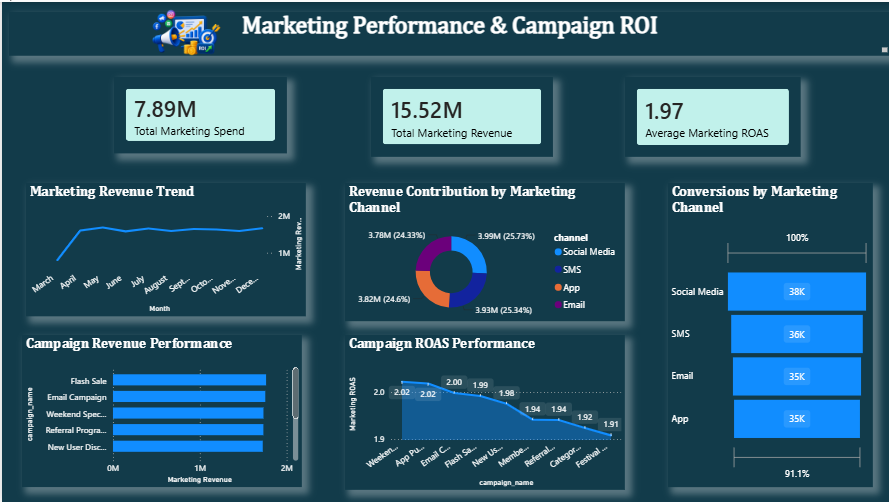

What the dashboard file says about the page in this screenshot:
{"tool":"powerbi","page":{"name":"Marketing Performance & Campaign ROI","canvas":[1280,720],"ordinal":4},"visuals":[{"type":"textbox","title":"Marketing Performance & Campaign ROI","box":[10.1,14.4,1270.1,63.4],"z":0},{"type":"cardVisual","fields":{"Data":["microfulfilliq blinkit_marketing_performance.Marketing Spend"]},"box":[161.3,108,249.1,109.8],"z":1000},{"type":"cardVisual","fields":{"Data":["microfulfilliq blinkit_marketing_performance.Marketing Revenue"]},"box":[531.4,108,262.2,114.7],"z":2000},{"type":"cardVisual","fields":{"Data":["microfulfilliq blinkit_marketing_performance.Marketing ROAS"]},"box":[897.1,108,253.4,115.2],"z":3000},{"type":"lineChart","title":"Marketing Revenue Trend","fields":{"Category":["microfulfilliq blinkit_marketing_performance.date.Variation.Date Hierarchy.Year","microfulfilliq blinkit_marketing_performance.date.Variation.Date Hierarchy.Quarter","microfulfilliq blinkit_marketing_performance.date.Variation.Date Hierarchy.Month","microfulfilliq blinkit_marketing_performance.date.Variation.Date Hierarchy.Day"],"Y2":["microfulfilliq blinkit_marketing_performance.Marketing Revenue"]},"box":[34.4,260.6,403.2,191.8],"z":4000},{"type":"clusteredBarChart","title":"Campaign Revenue Performance","fields":{"Category":["microfulfilliq blinkit_marketing_performance.campaign_name"],"Y":["microfulfilliq blinkit_marketing_performance.Marketing Revenue"]},"box":[28.8,479.5,403.2,218.9],"z":5000},{"type":"donutChart","title":"Revenue Contribution by Marketing Channel","fields":{"Category":["microfulfilliq blinkit_marketing_performance.channel"],"Y":["microfulfilliq blinkit_marketing_performance.Marketing Revenue"]},"box":[493.9,260.6,403,199],"z":6000},{"type":"areaChart","title":"Campaign ROAS Performance","fields":{"Category":["microfulfilliq blinkit_marketing_performance.campaign_name"],"Y":["microfulfilliq blinkit_marketing_performance.Marketing ROAS"]},"box":[493.9,479.5,403.2,223.2],"z":7000},{"type":"funnel","title":"Conversions by Marketing Channel","fields":{"Category":["microfulfilliq blinkit_marketing_performance.channel"],"Y":["Sum(microfulfilliq blinkit_marketing_performance.conversions)"]},"box":[959,260.6,295.2,437.8],"z":8000},{"type":"image","box":[188.6,7.2,151.2,77.8],"z":8001}]}

Visuals, with their boxes in screenshot pixels (x1, y1, x2, y2), scaled from the page's 1280x720 canvas onto the 889x502 screenshot:
"Marketing Performance & Campaign ROI" textbox: {"left": 7, "top": 10, "right": 888, "bottom": 54}
cardVisual - microfulfilliq blinkit_marketing_performance.Marketing Spend: {"left": 112, "top": 75, "right": 285, "bottom": 152}
cardVisual - microfulfilliq blinkit_marketing_performance.Marketing Revenue: {"left": 369, "top": 75, "right": 551, "bottom": 155}
cardVisual - microfulfilliq blinkit_marketing_performance.Marketing ROAS: {"left": 623, "top": 75, "right": 799, "bottom": 156}
"Marketing Revenue Trend" lineChart: {"left": 24, "top": 182, "right": 304, "bottom": 315}
"Campaign Revenue Performance" clusteredBarChart: {"left": 20, "top": 334, "right": 300, "bottom": 487}
"Revenue Contribution by Marketing Channel" donutChart: {"left": 343, "top": 182, "right": 623, "bottom": 320}
"Campaign ROAS Performance" areaChart: {"left": 343, "top": 334, "right": 623, "bottom": 490}
"Conversions by Marketing Channel" funnel: {"left": 666, "top": 182, "right": 871, "bottom": 487}
image: {"left": 131, "top": 5, "right": 236, "bottom": 59}
